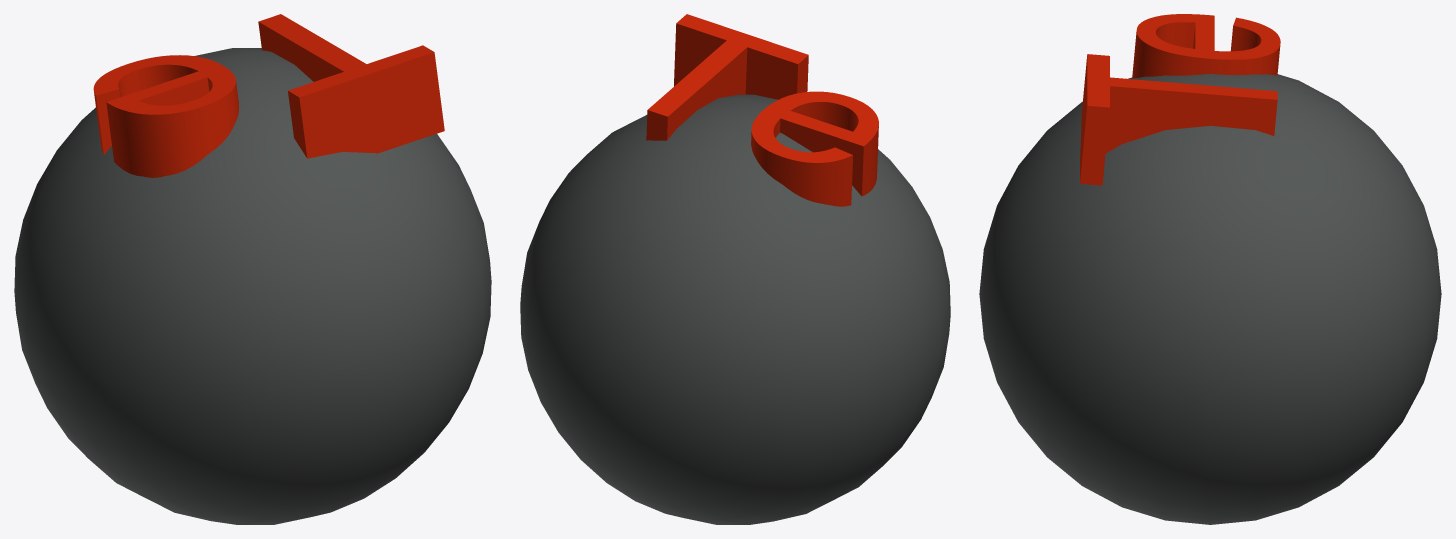
The picture shows the model from 3 angles, left to right: view 1: azimuth 30°, elevation 25°; view 2: azimuth 150°, elevation 25°; view 3: azimuth 270°, elevation 25°; orthographic projection. The views are drawn at different scales.
Visible parts, largest first — view 1: Te; view 2: Te; view 3: Te.
Boxes of the visible parts, box(x1,y1,x2,y2) form: Te: box(14, 14, 491, 524); Te: box(520, 14, 950, 524); Te: box(979, 14, 1441, 524).
Bounding box in the file's own units: 38.67 × 41.87 × 38.75.
